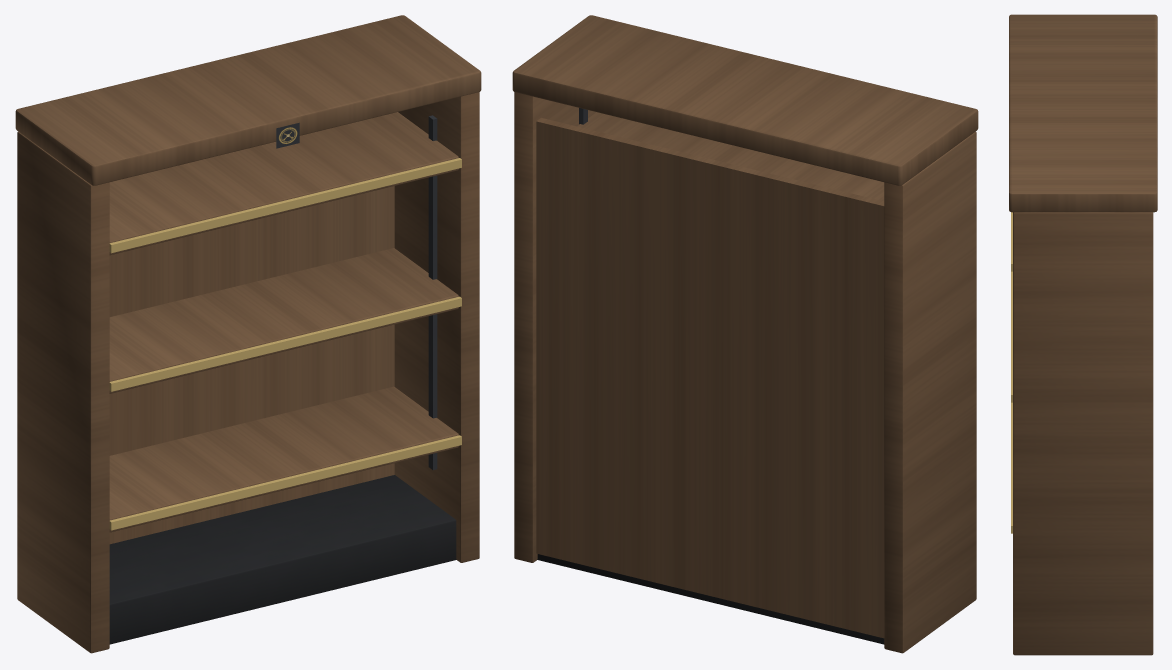
The model's file is ball_shelf.glb.
3 renders of one model, left to right at view 1: azimuth 30°, elevation 25°; view 2: azimuth 150°, elevation 25°; view 3: azimuth 270°, elevation 25°, orthographic. The views are drawn at different scales.
Visible parts, largest first — view 1: Side_L, Back_Panel, Top, Plinth, Side_R, Board_01, Board_02, Board_03, Board_Lip_02, Board_Lip_01, Board_Lip_03, PinRail_R; view 2: Back_Panel, Side_L, Top, Side_R, Board_03, Plinth; view 3: Side_R, Top, Board_Lip_01, Board_Lip_02.
Boxes of the visible parts, x1,y1,x2,y2 form: Side_L: [17, 131, 109, 653]; Back_Panel: [109, 186, 394, 544]; Top: [15, 15, 481, 185]; Plinth: [109, 475, 456, 644]; Side_R: [394, 92, 479, 562]; Board_01: [109, 386, 458, 532]; Board_02: [109, 248, 458, 393]; Board_03: [109, 112, 458, 255]; Board_Lip_02: [109, 296, 461, 391]; Board_Lip_01: [109, 435, 461, 530]; Board_Lip_03: [109, 158, 461, 253]; PinRail_R: [428, 115, 437, 470]; Back_Panel: [536, 117, 884, 638]; Side_L: [884, 131, 976, 653]; Top: [512, 15, 978, 185]; Side_R: [514, 92, 595, 562]; Board_03: [577, 112, 884, 201]; Plinth: [537, 554, 884, 644]; Side_R: [1013, 212, 1153, 655]; Top: [1009, 14, 1157, 212]; Board_Lip_01: [1011, 402, 1012, 533]; Board_Lip_02: [1011, 271, 1012, 402].
Size of the model in its own units: 1 by 1.2 by 0.3512.
6 materials, 4 textured.
